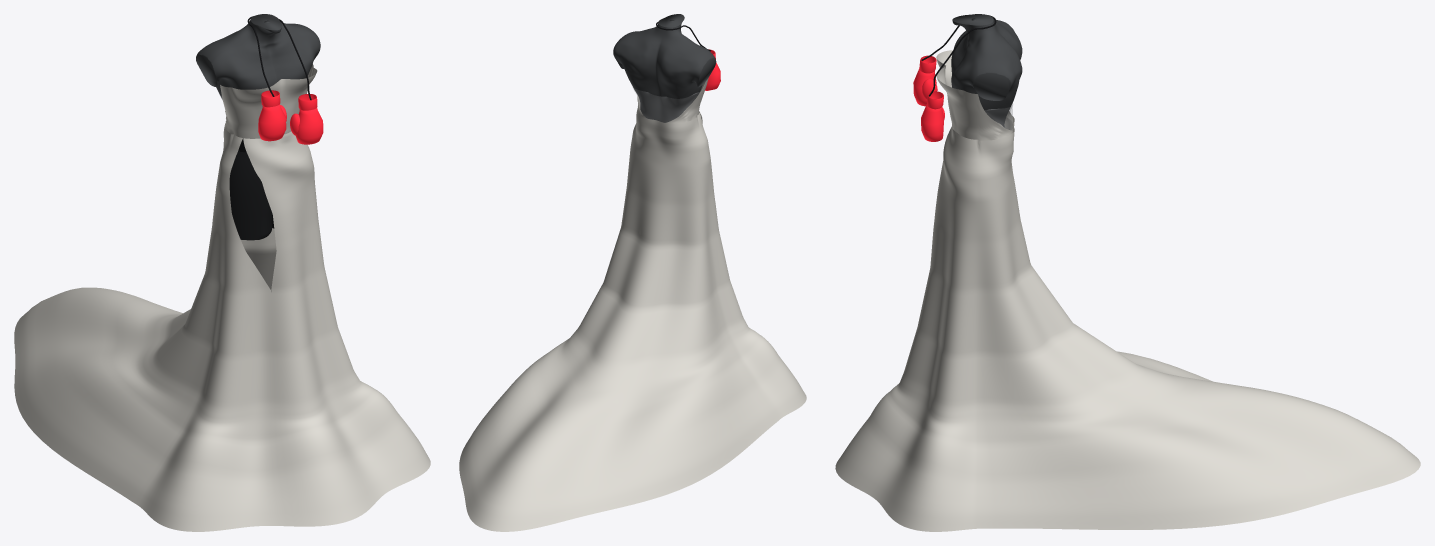
The model's file is lola.glb.
3 renders of one model, left to right at view 1: azimuth 30°, elevation 25°; view 2: azimuth 150°, elevation 25°; view 3: azimuth 270°, elevation 25°, orthographic. The views are drawn at different scales.
Visible parts, largest first — view 1: HUMAN_R1_GOWN_Long_Skirt_And_Volumetric_Train, CC0_Realistic_Male_Display_Mannequin, HUMAN_R1_GOWN_Strapless_Bodice_TRUE_OpenBack, HUMAN_R1_SHORTS_R_Continuous_Leg, HUMAN_R1_GLOVE_R_Fist, HUMAN_R1_GLOVE_L_Fist; view 2: HUMAN_R1_GOWN_Long_Skirt_And_Volumetric_Train, CC0_Realistic_Male_Display_Mannequin, HUMAN_R1_GOWN_OpenBack_Sheer_Mesh_50pct, HUMAN_R1_GOWN_Strapless_Bodice_TRUE_OpenBack; view 3: HUMAN_R1_GOWN_Long_Skirt_And_Volumetric_Train, CC0_Realistic_Male_Display_Mannequin, HUMAN_R1_GOWN_Strapless_Bodice_TRUE_OpenBack, HUMAN_R1_GLOVE_L_Fist.
Boxes of the visible parts, x1,y1,x2,y2 form: HUMAN_R1_GOWN_Long_Skirt_And_Volumetric_Train: (14,122,430,531); CC0_Realistic_Male_Display_Mannequin: (196,14,320,99); HUMAN_R1_GOWN_Strapless_Bodice_TRUE_OpenBack: (220,64,317,138); HUMAN_R1_SHORTS_R_Continuous_Leg: (229,156,272,240); HUMAN_R1_GLOVE_R_Fist: (258,104,286,141); HUMAN_R1_GLOVE_L_Fist: (295,108,323,144); HUMAN_R1_GOWN_Long_Skirt_And_Volumetric_Train: (459,108,806,531); CC0_Realistic_Male_Display_Mannequin: (613,14,716,122); HUMAN_R1_GOWN_OpenBack_Sheer_Mesh_50pct: (631,85,699,122); HUMAN_R1_GOWN_Strapless_Bodice_TRUE_OpenBack: (637,77,708,123); HUMAN_R1_GOWN_Long_Skirt_And_Volumetric_Train: (835,116,1420,531); CC0_Realistic_Male_Display_Mannequin: (951,14,1022,127); HUMAN_R1_GOWN_Strapless_Bodice_TRUE_OpenBack: (936,50,1012,140); HUMAN_R1_GLOVE_L_Fist: (921,99,943,141).
Size of the model in its own units: 1.6 by 2.51 by 2.98.
